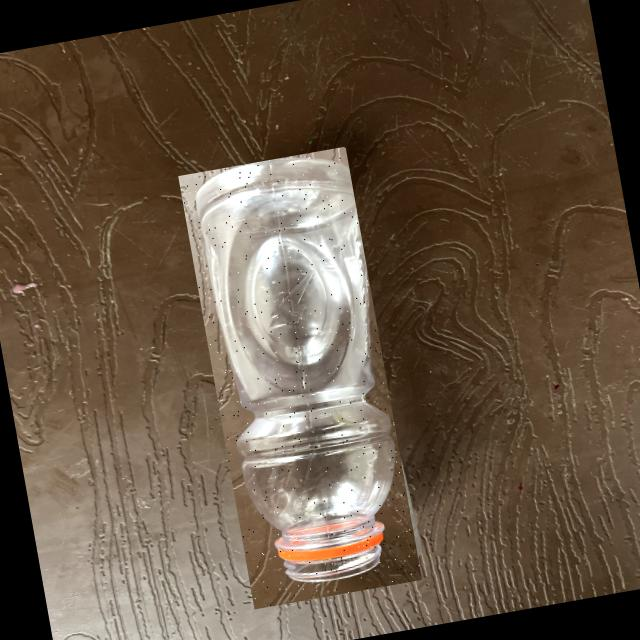PET_With_Cap: (177, 145, 420, 608)
